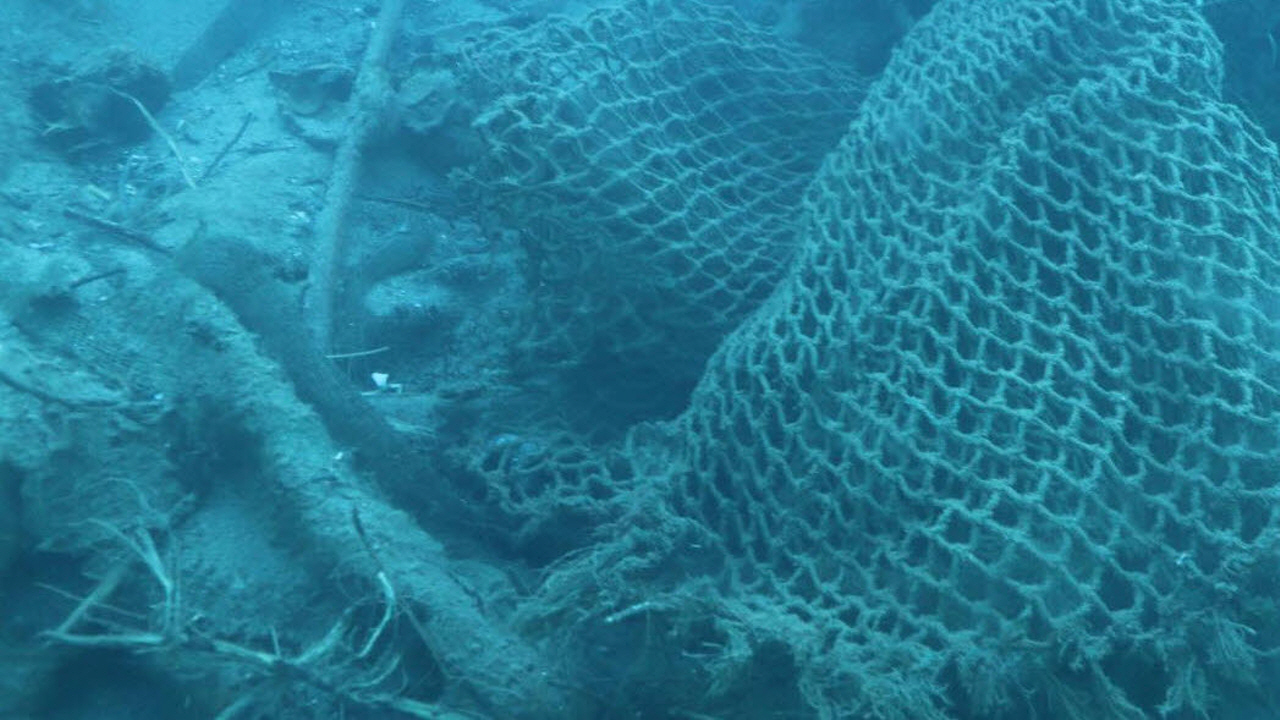fish net: (476, 5, 1280, 654)
